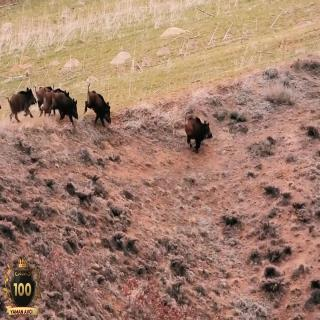Pig: (180, 100, 222, 152), (83, 78, 115, 131), (12, 87, 40, 133), (52, 79, 78, 123), (40, 80, 56, 102)
